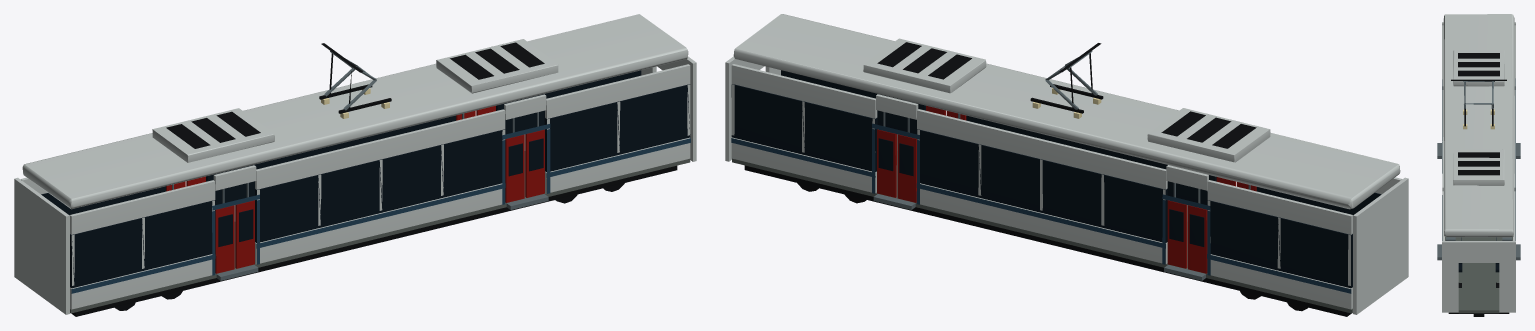
The model's file is INTERMEDIATE_LOD1.glb.
3 views of the same model, side by side, from view 1: azimuth 30°, elevation 25°; view 2: azimuth 150°, elevation 25°; view 3: azimuth 270°, elevation 25° (orthographic). The views are drawn at different scales.
Parts seen in each view (by area): view 1: INTERMEDIATE_LOD1_VISUAL; view 2: INTERMEDIATE_LOD1_VISUAL; view 3: INTERMEDIATE_LOD1_VISUAL.
Boxes of the visible parts, x1,y1,x2,y2 form: INTERMEDIATE_LOD1_VISUAL: (14, 14, 696, 316); INTERMEDIATE_LOD1_VISUAL: (725, 14, 1408, 316); INTERMEDIATE_LOD1_VISUAL: (1437, 14, 1520, 316).
Bounding box in the file's own units: 71.43 × 20.17 × 11.43.
Materials: 8 (8 with a texture image).
